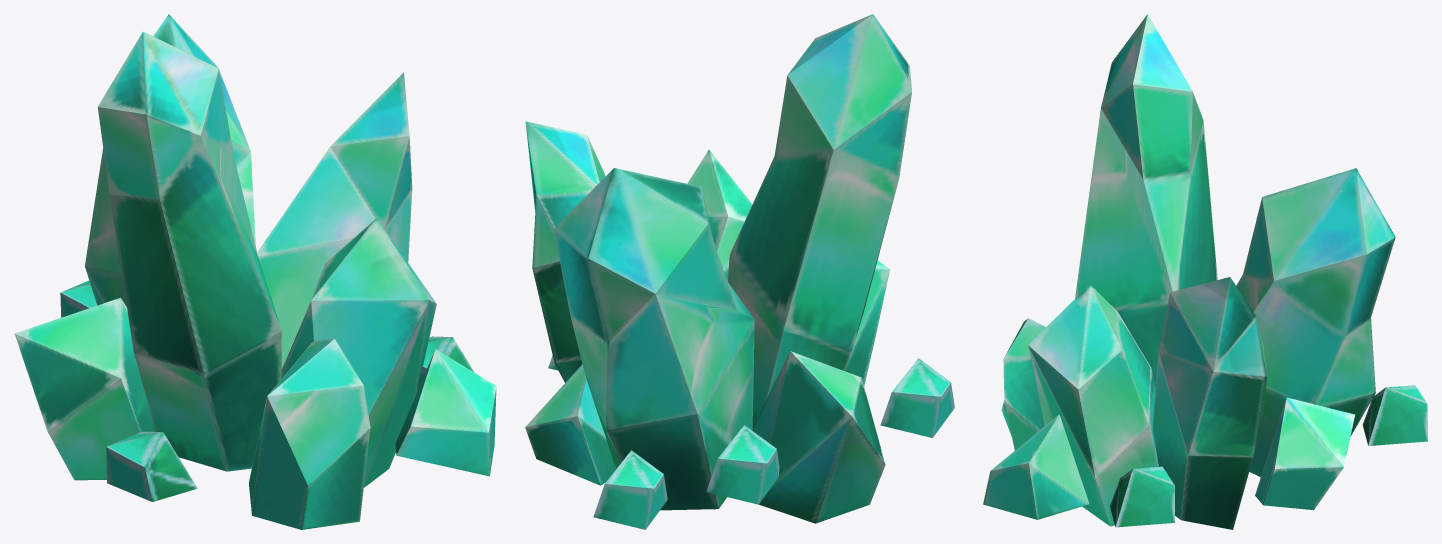
The model's file is bigmap_res_crystal01.FBX.
The picture shows the model from 3 angles, left to right: view 1: azimuth 30°, elevation 25°; view 2: azimuth 150°, elevation 25°; view 3: azimuth 270°, elevation 25°; orthographic projection. The views are drawn at different scales.
Parts seen in each view (by area): view 1: Box03; view 2: Box03; view 3: Box03.
Boxes of the visible parts, left/top/right/bottom form: Box03: left=14, top=14, right=496, bottom=529; Box03: left=525, top=14, right=954, bottom=529; Box03: left=983, top=14, right=1427, bottom=529.
Size of the model in its own units: 2.08 by 2.41 by 2.53.
